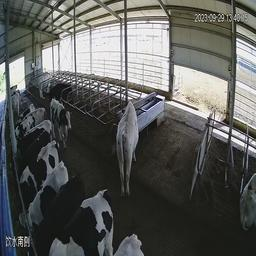cow: (42, 183, 115, 256), (24, 165, 85, 247), (11, 146, 70, 208), (112, 91, 141, 203), (13, 121, 53, 161), (8, 101, 49, 137), (237, 158, 255, 235), (54, 99, 78, 155), (4, 80, 21, 114), (34, 72, 53, 99)
